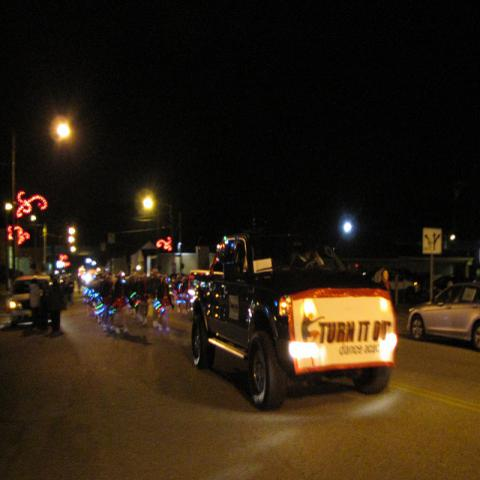car: (410, 284, 476, 341), (6, 274, 53, 329), (175, 270, 209, 319)
truck: (189, 228, 397, 408), (6, 270, 69, 335)
